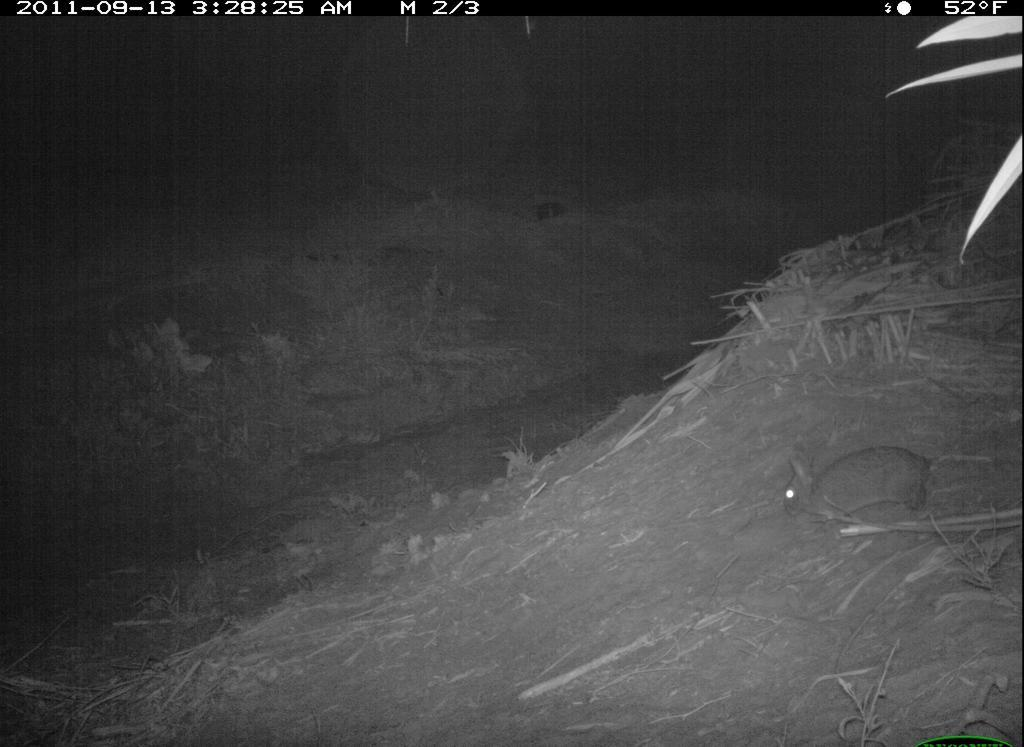rabbit: (777, 417, 945, 543)
